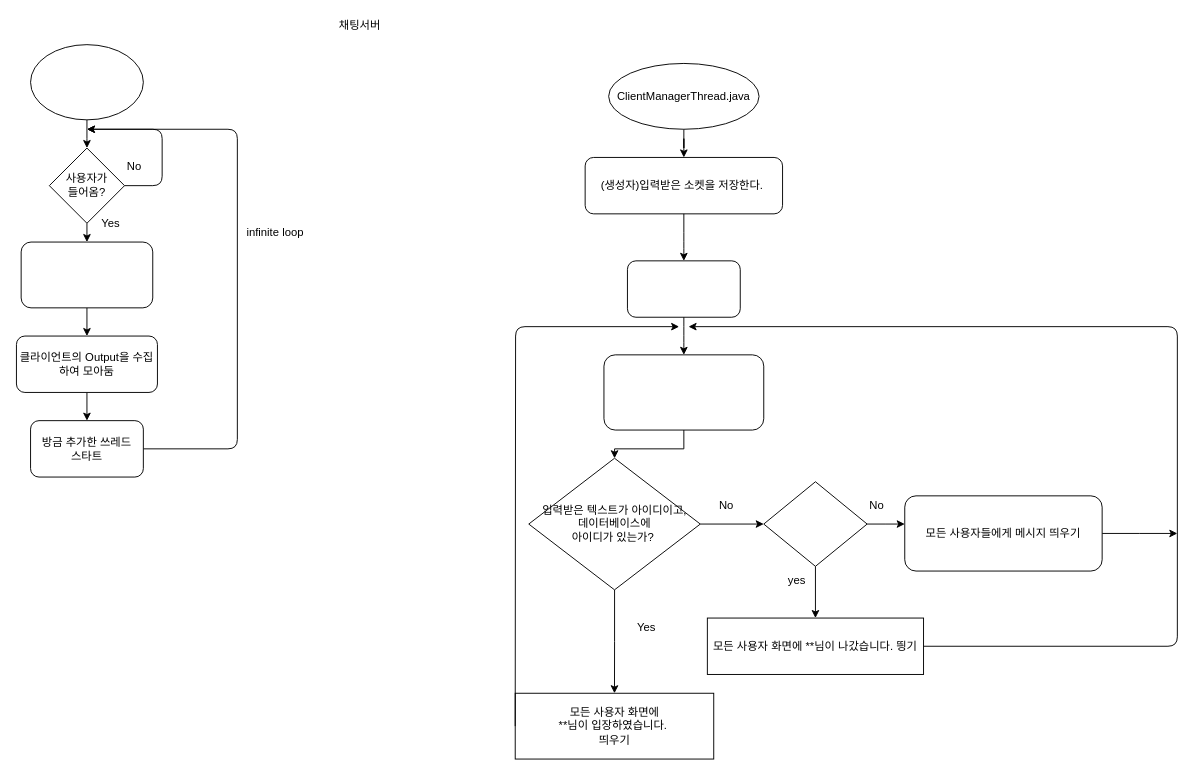
This 1201x776 diagram has some shape labels left out. The centre of each missing label's shape, as x and y in pixels:
"Start" belongs at pixel 86 82.
"버퍼가 null인가?" belongs at pixel 815 523.
"버퍼에서 텍스트를 갖어온다." belongs at pixel 683 392.
"새로운 ClientmanagerThread.java 를 추가" belongs at pixel 86 274.
"인풋스트림을 버퍼에 저장한다." belongs at pixel 683 288.
